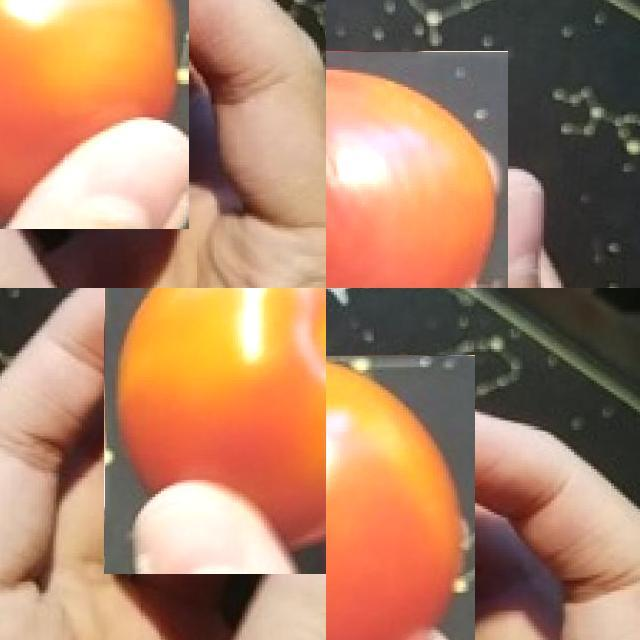Fresh Tomato: (104, 288, 326, 573), (326, 51, 507, 288), (0, 0, 188, 228), (326, 355, 474, 640)
